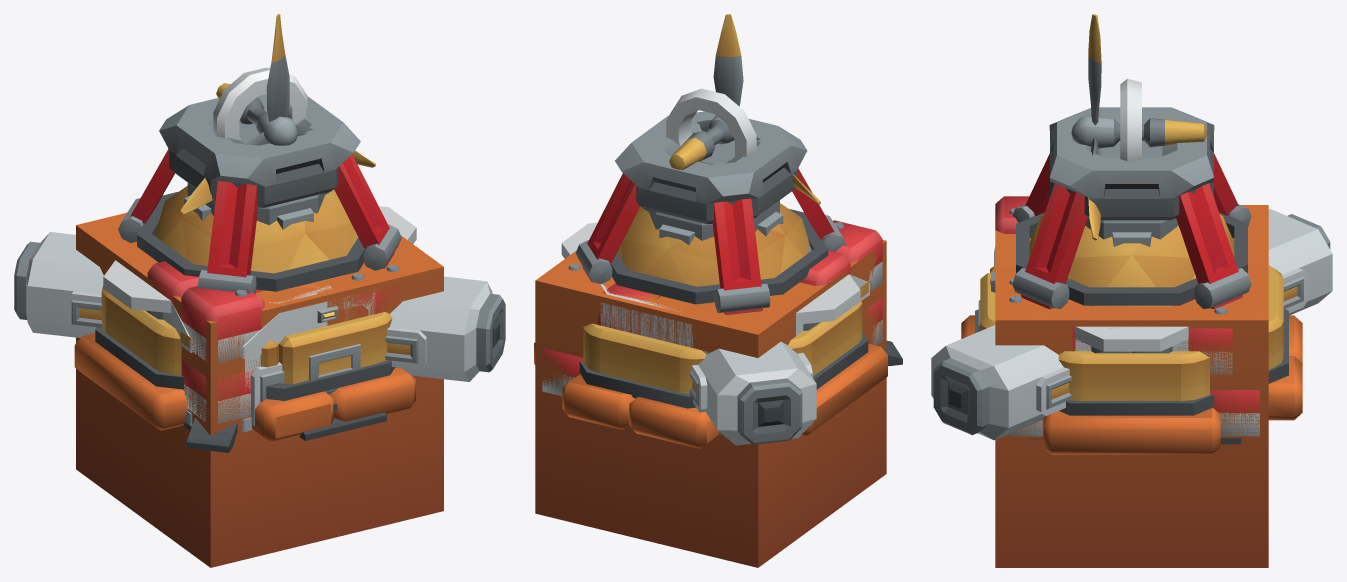
File: spacebase.glb
3 renders of one model, left to right at view 1: azimuth 30°, elevation 25°; view 2: azimuth 150°, elevation 25°; view 3: azimuth 270°, elevation 25°, orthographic. The views are drawn at different scales.
Visible parts, largest first — view 1: terrain_mining, drill_structure, terrain_low, terrain_slope, tunnel_diagonal_long_A, landingpad_large, basemodule_E, basemodule_A, cargodepot_A, windturbine_tall_fan, terrain_tall_curved, basemodule_D (+8 smaller); view 2: terrain_mining, terrain_low, drill_structure, terrain_slope, landingpad_large, tunnel_diagonal_long_A, basemodule_E, windturbine_tall_fan, terrain_slope_inner_corner, basemodule_B, basemodule_A, cargodepot_A (+6 smaller); view 3: terrain_low, drill_structure, terrain_mining, terrain_slope_outer_corner, tunnel_diagonal_long_A, basemodule_E, landingpad_large, windturbine_tall_fan, terrain_slope, cargodepot_C, terrain_tall, terrain_slope_inner_corner (+7 smaller).
Boxes of the visible parts, <box> form: terrain_mining: <box>76,212,443,567</box>; drill_structure: <box>118,94,401,293</box>; terrain_low: <box>76,369,443,567</box>; terrain_slope: <box>210,236,443,566</box>; tunnel_diagonal_long_A: <box>14,232,505,381</box>; landingpad_large: <box>74,327,415,443</box>; basemodule_E: <box>101,186,358,374</box>; basemodule_A: <box>106,285,391,452</box>; cargodepot_A: <box>147,261,264,430</box>; windturbine_tall_fan: <box>180,14,375,214</box>; terrain_tall_curved: <box>76,214,443,509</box>; basemodule_D: <box>103,206,416,375</box>; terrain_mining: <box>535,240,886,566</box>; terrain_low: <box>535,378,886,567</box>; drill_structure: <box>575,111,846,314</box>; terrain_slope: <box>535,273,758,566</box>; landingpad_large: <box>534,331,887,448</box>; tunnel_diagonal_long_A: <box>689,342,816,445</box>; basemodule_E: <box>617,203,862,365</box>; windturbine_tall_fan: <box>666,14,820,204</box>; terrain_slope_inner_corner: <box>538,280,886,566</box>; basemodule_B: <box>585,323,703,393</box>; basemodule_A: <box>600,274,902,376</box>; cargodepot_A: <box>702,220,882,354</box>; terrain_low: <box>995,444,1268,567</box>; drill_structure: <box>1012,107,1251,309</box>; terrain_mining: <box>995,205,1268,567</box>; terrain_slope_outer_corner: <box>995,268,1268,567</box>; tunnel_diagonal_long_A: <box>931,209,1332,440</box>; basemodule_E: <box>990,213,1234,400</box>; landingpad_large: <box>961,309,1302,454</box>; windturbine_tall_fan: <box>1071,14,1207,240</box>; terrain_slope: <box>995,268,1268,320</box>; cargodepot_C: <box>1009,295,1259,436</box>; terrain_tall: <box>995,205,1268,320</box>; terrain_slope_inner_corner: <box>999,205,1268,319</box>.
Size of the model in its own units: 2.94 by 4 by 2.94.
Materials: 1 (1 with a texture image).
